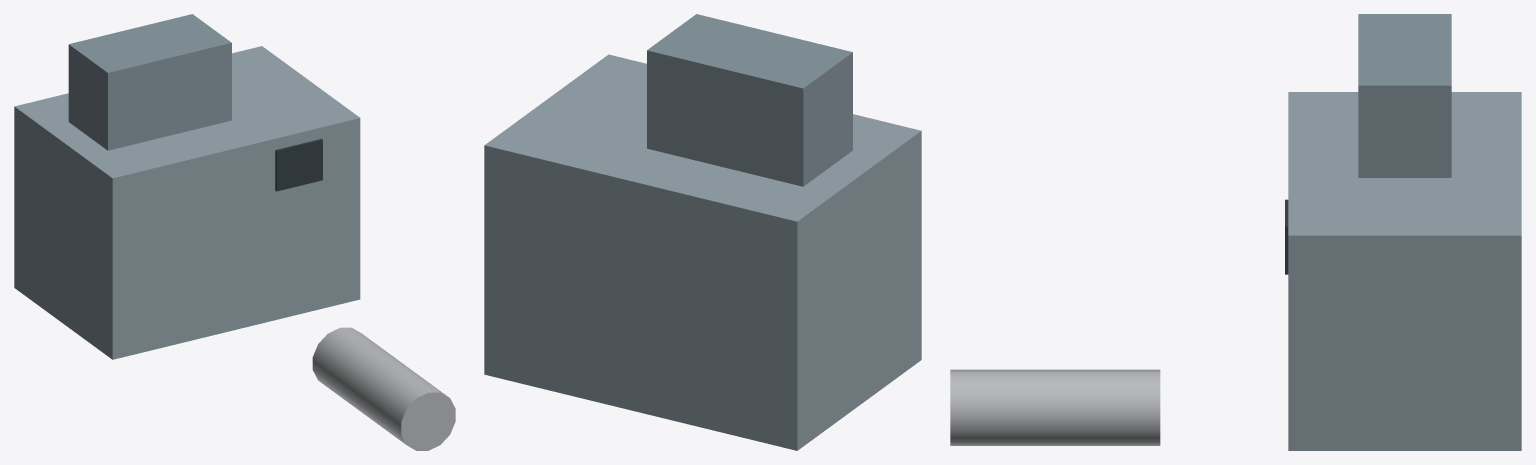
Rendered from 1769-Furniture-interiors-machine.glb.
3 renders of one model, left to right at view 1: azimuth 30°, elevation 25°; view 2: azimuth 150°, elevation 25°; view 3: azimuth 270°, elevation 25°, orthographic. The views are drawn at different scales.
Parts seen in each view (by area): view 1: Furniture (interiors)/machine; view 2: Furniture (interiors)/machine; view 3: Furniture (interiors)/machine.
Boxes of the visible parts, x1=… form: Furniture (interiors)/machine: x1=14, y1=14, x2=455, y2=450; Furniture (interiors)/machine: x1=484, y1=14, x2=921, y2=450; Furniture (interiors)/machine: x1=950, y1=14, x2=1521, y2=450.
Size of the model in its own units: 1.6 by 1.78 by 2.69.
